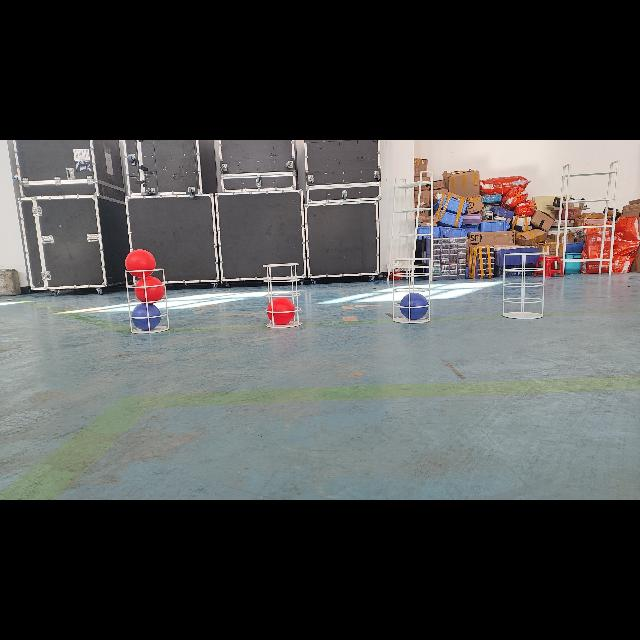B: (400, 292, 430, 320), (131, 303, 161, 331)
R: (125, 249, 156, 279), (134, 274, 166, 302), (268, 296, 298, 324)
S: (498, 246, 548, 322), (124, 266, 174, 336), (389, 258, 439, 326), (259, 262, 305, 328)
